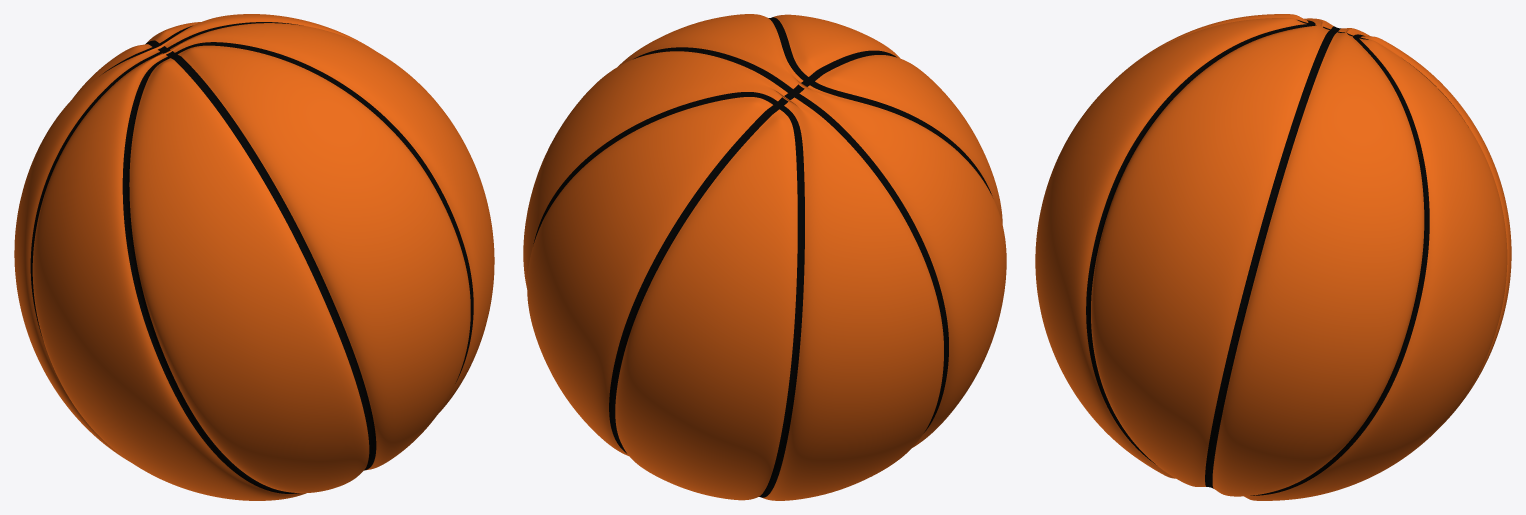
The model's file is BBALL.fbx.
3 renders of one model, left to right at view 1: azimuth 30°, elevation 25°; view 2: azimuth 150°, elevation 25°; view 3: azimuth 270°, elevation 25°, orthographic.
Parts seen in each view (by area): view 1: Sphere; view 2: Sphere; view 3: Sphere.
Part boxes in pixels (x1,y1,x2,y2): Sphere: (14, 14, 494, 500); Sphere: (523, 14, 1006, 500); Sphere: (1035, 14, 1511, 500).
Bounding box in the file's own units: 195 × 198 × 194.
